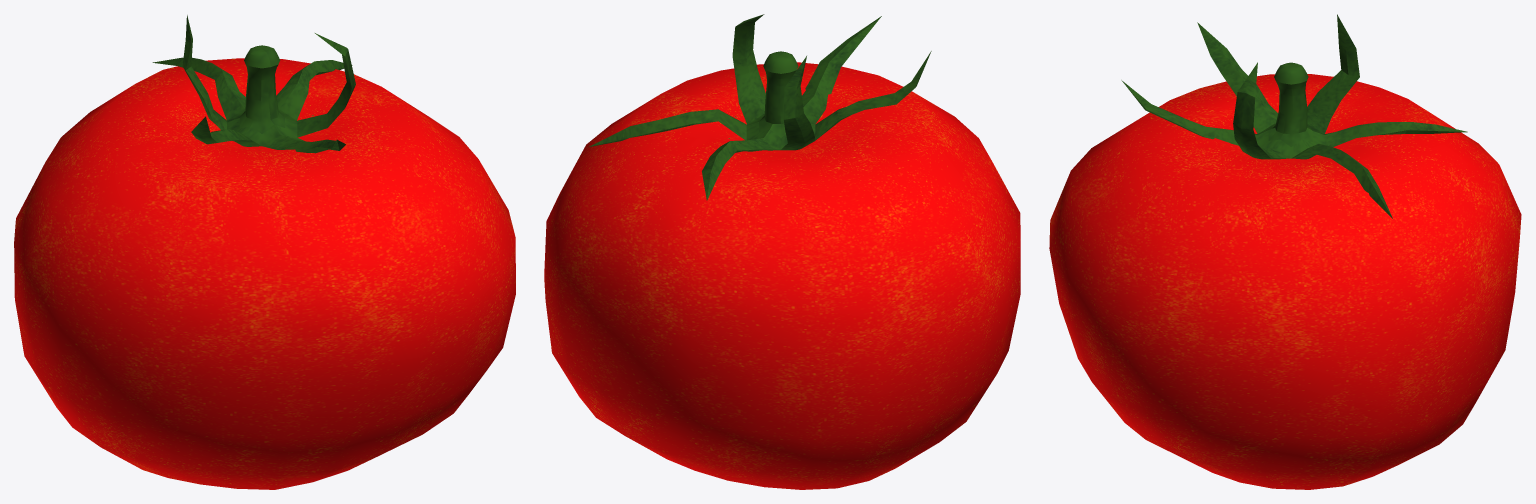
File: tomato03.fbx
3 views of the same model, side by side, from view 1: azimuth 30°, elevation 25°; view 2: azimuth 150°, elevation 25°; view 3: azimuth 270°, elevation 25° (orthographic). The views are drawn at different scales.
Visible parts, largest first — view 1: Tomato03; view 2: Tomato03; view 3: Tomato03.
Boxes of the visible parts, bbox=[...] form: Tomato03: bbox=[14, 15, 515, 489]; Tomato03: bbox=[544, 14, 1020, 489]; Tomato03: bbox=[1049, 14, 1521, 489].
Size of the model in its own units: 6.66 by 6.56 by 6.59.
1 material, 1 textured.
